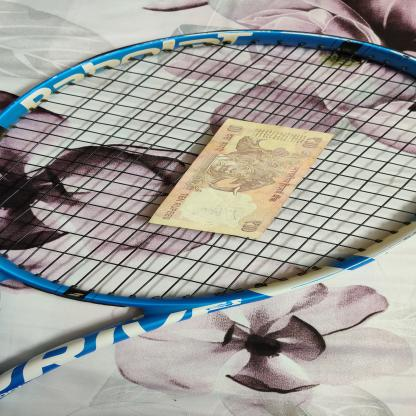Old10Back: (148, 118, 334, 239)
